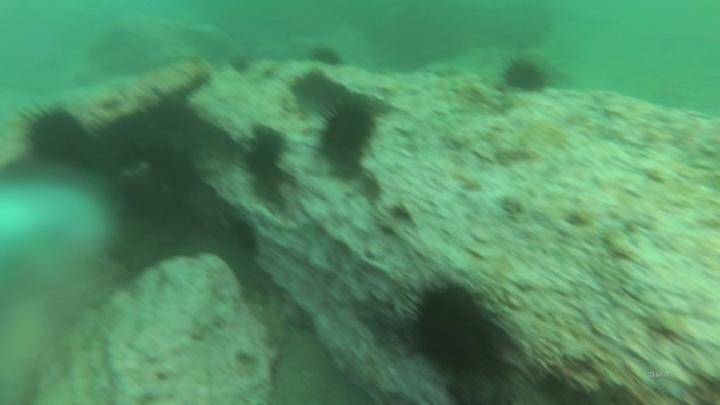echinus: (403, 275, 503, 381), (312, 96, 381, 177), (17, 101, 92, 170), (240, 123, 291, 185), (500, 55, 552, 96), (306, 43, 346, 71)
